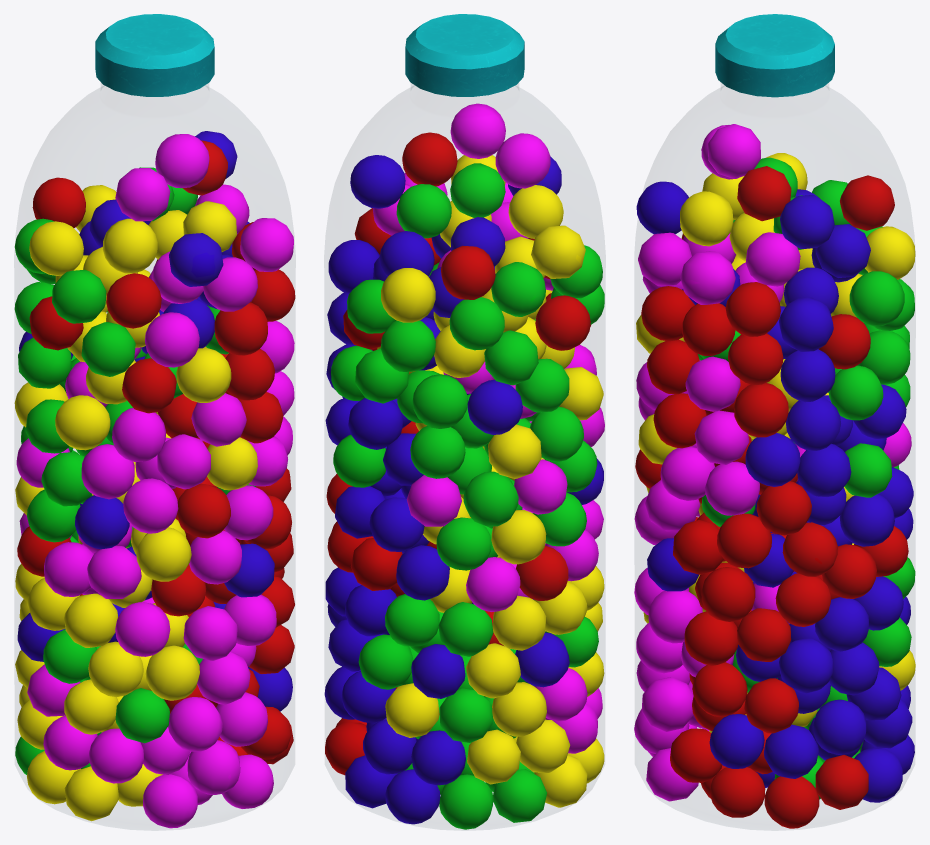
The picture shows the model from 3 angles, left to right: view 1: azimuth 30°, elevation 25°; view 2: azimuth 150°, elevation 25°; view 3: azimuth 270°, elevation 25°; orthographic projection.
Visible parts, largest first — view 1: VerdeGR3, Tapon; view 2: VerdeGR3, Tapon; view 3: VerdeGR3, Tapon.
Boxes of the visible parts, bbox=[...] form: VerdeGR3: bbox=[14, 131, 295, 828]; Tapon: bbox=[95, 14, 214, 96]; VerdeGR3: bbox=[324, 103, 604, 829]; Tapon: bbox=[405, 14, 524, 96]; VerdeGR3: bbox=[634, 124, 915, 828]; Tapon: bbox=[715, 14, 834, 97].
Bounding box in the file's own units: 4.02 × 11.68 × 4.
